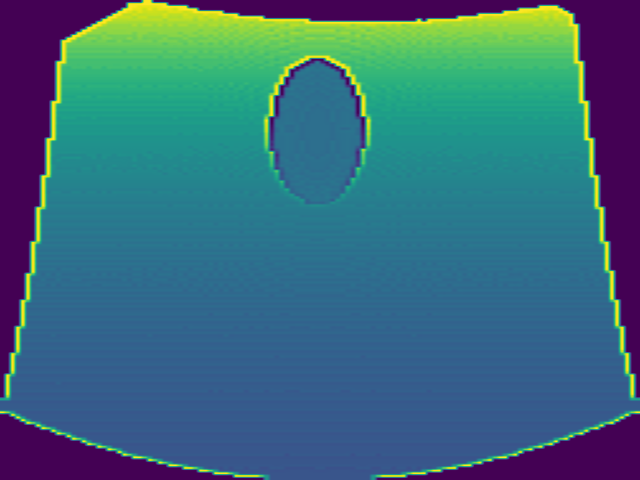sphere: (263, 54, 370, 206)
